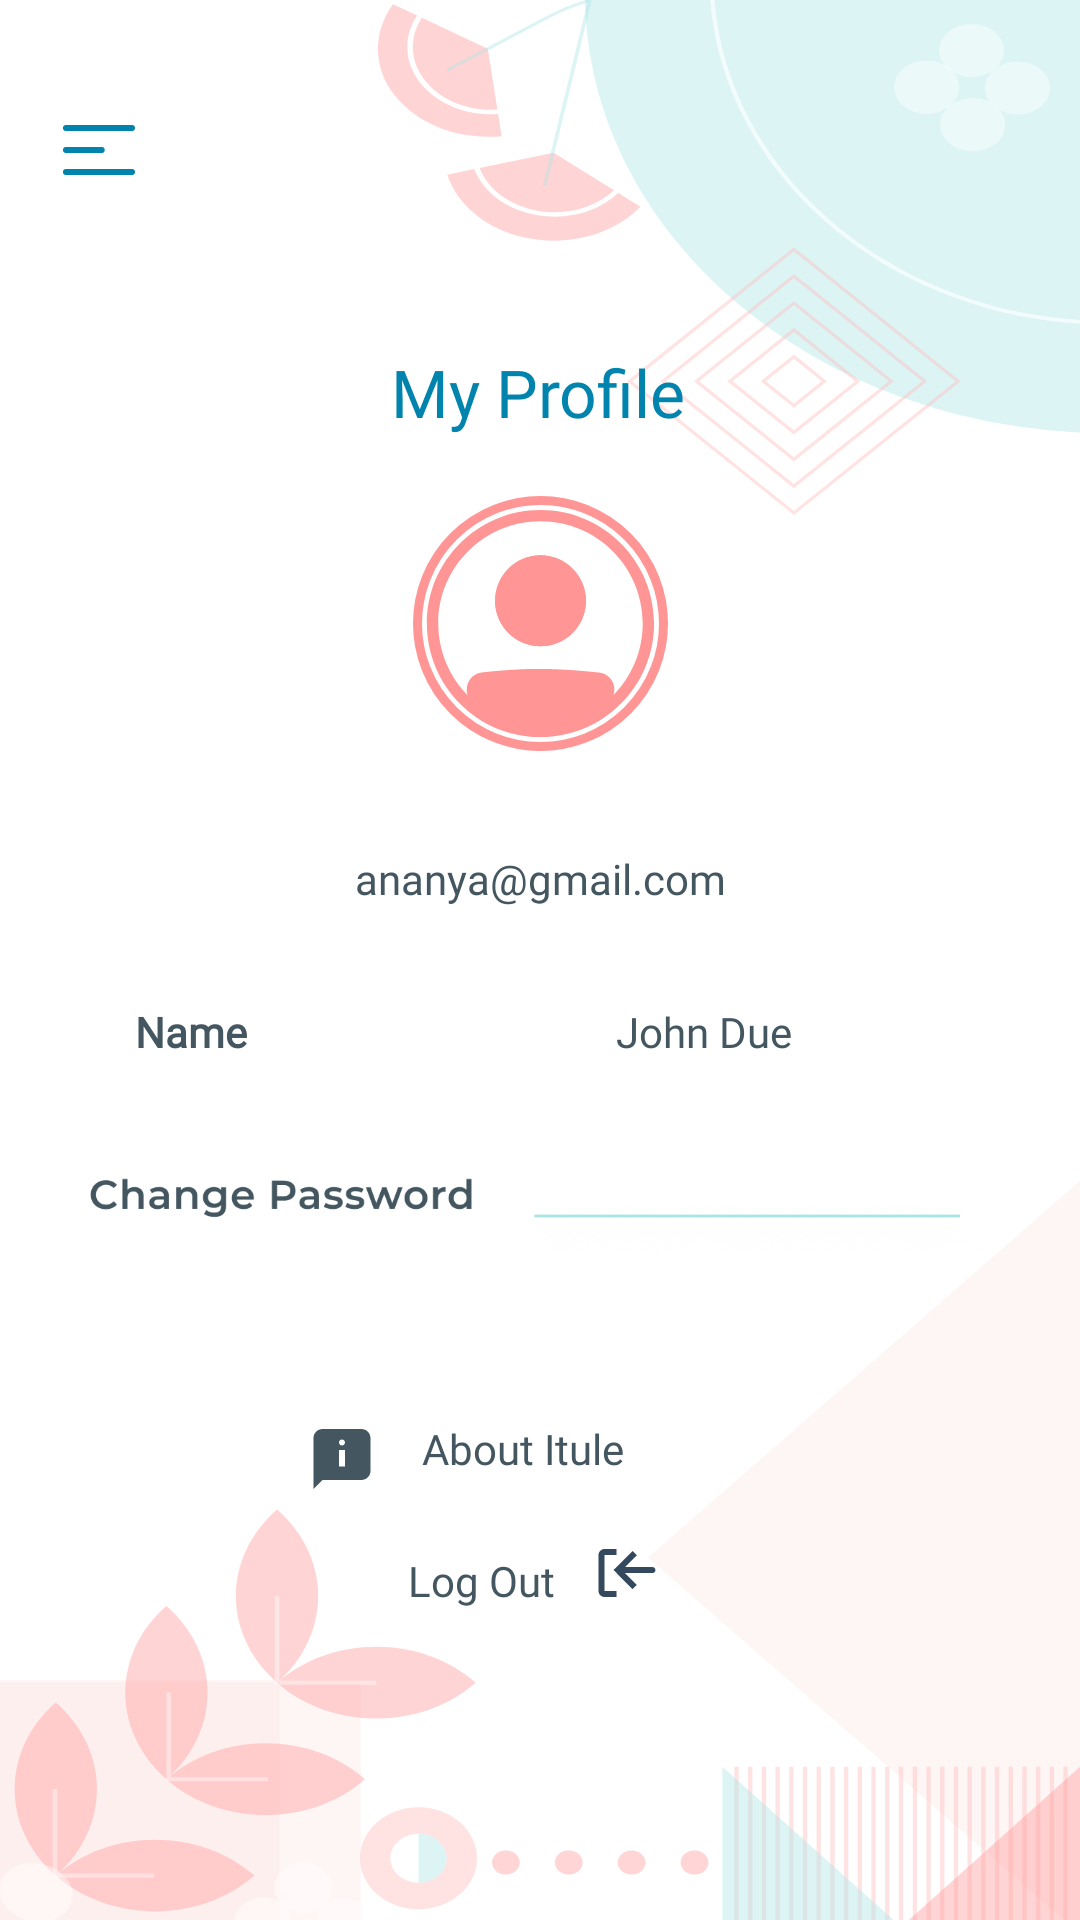

Icons on this 1080px×1920px Android screen, each with its box as {"left": x1, "top": y1, "right": x2, "bottom": y2}:
hamburger: {"left": 63, "top": 125, "right": 135, "bottom": 175}
profile pic: {"left": 413, "top": 496, "right": 668, "bottom": 751}
